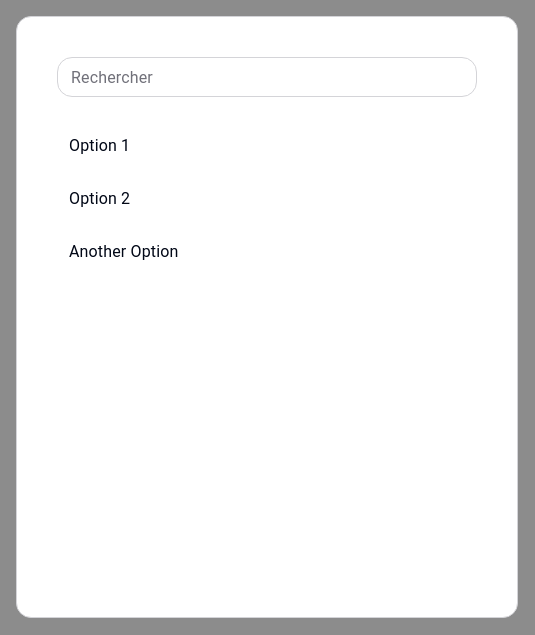
it: SelectOverlay › filters options based on search input
The width and height of the screenshot is (535, 635).
Type "Another" into the field labelled "Rechercher" at coordinates (267, 77), box x1=57 y1=57 x2=477 y2=97
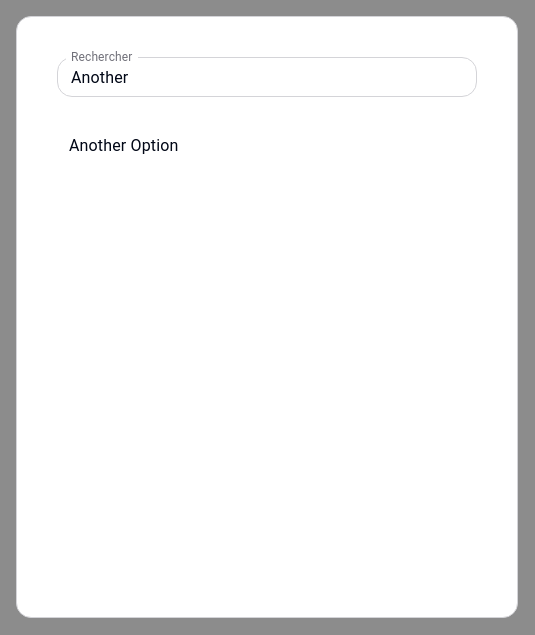
Check: the text "Another Option" is shown, box x1=69 y1=136 x2=178 y2=155
Check: the text "Option 1" is gone
Check: the text "Option 2" is gone
